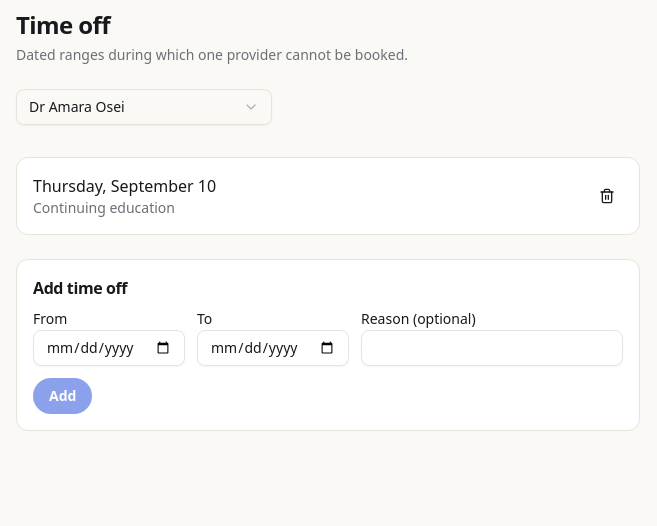
Test: adding a range › shows the server’s own conflict message on a 409, unedited
The width and height of the screenshot is (657, 526).
Expected: the text "Continuing education" is shown, 33,198 -> 175,217
Type "2026-10-01" into the date field labelled "From" at (109, 348), box 33,330 -> 185,366
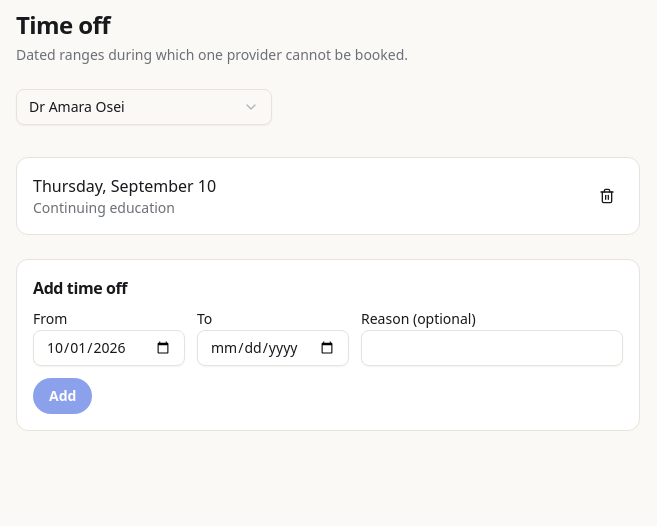
Type "2026-10-01" into the date field labelled "To" at (273, 348), box 197,330 -> 349,366
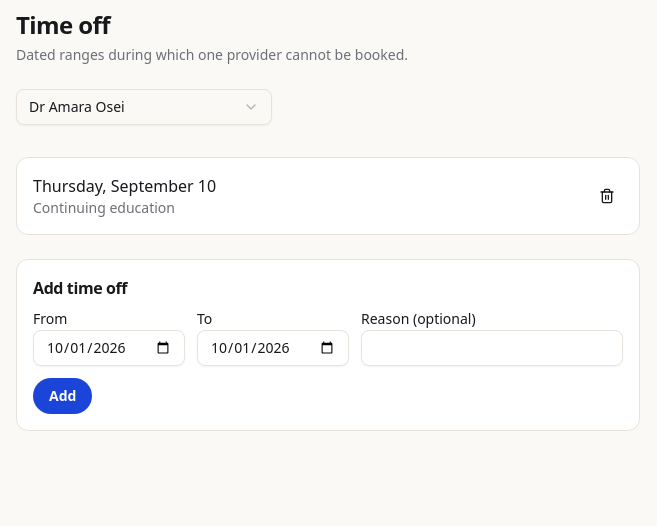
Click the button "Add" at (63, 396), box 33,378 -> 92,414
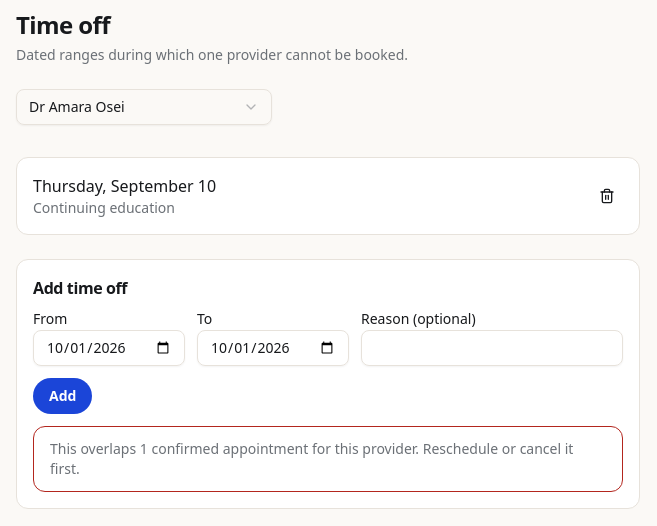
Result: the text "This overlaps 1 confirmed appointment for this provider. Reschedule or cancel it first." is shown at 50,439 -> 573,478
